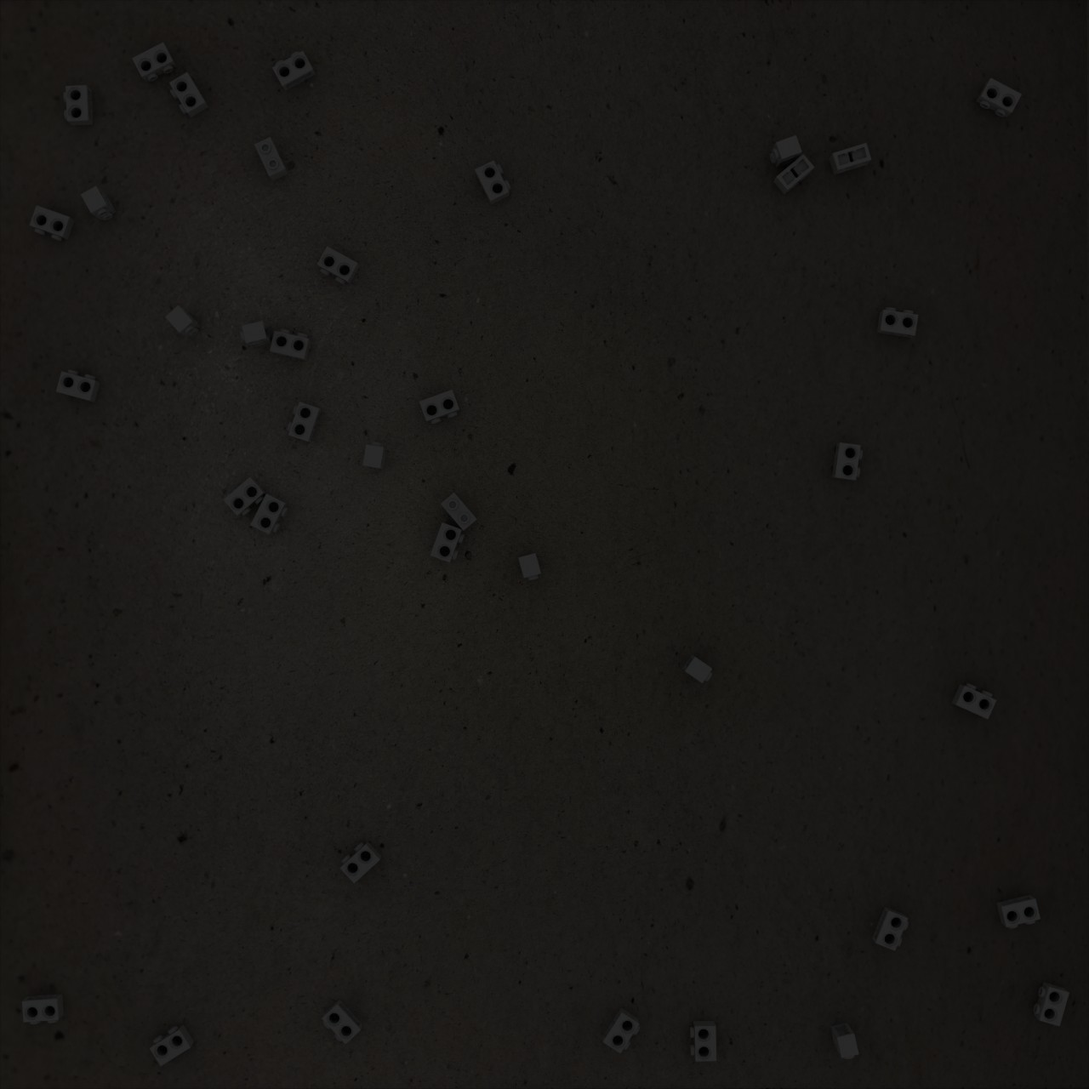lego: (149, 1024, 195, 1066), (321, 999, 363, 1044), (169, 72, 209, 118), (976, 78, 1022, 118), (340, 841, 382, 884), (132, 42, 177, 82), (602, 1007, 640, 1054), (272, 51, 316, 91), (773, 154, 815, 195), (223, 477, 267, 516), (317, 246, 360, 285), (872, 906, 909, 951), (1033, 982, 1070, 1027), (29, 205, 75, 241), (951, 683, 997, 719), (475, 160, 511, 205), (250, 494, 288, 535), (254, 137, 289, 181), (56, 369, 101, 403), (996, 895, 1041, 929), (440, 492, 478, 531), (287, 402, 322, 443), (430, 522, 465, 563), (419, 389, 460, 424), (829, 143, 872, 175), (270, 329, 311, 361), (22, 994, 64, 1025), (877, 307, 918, 338), (80, 186, 116, 221), (63, 85, 93, 126), (832, 442, 863, 481), (165, 305, 201, 338), (690, 1020, 717, 1062), (830, 1022, 859, 1059), (770, 135, 802, 168), (682, 654, 713, 683), (240, 321, 273, 348), (363, 442, 387, 470), (518, 553, 541, 581)
